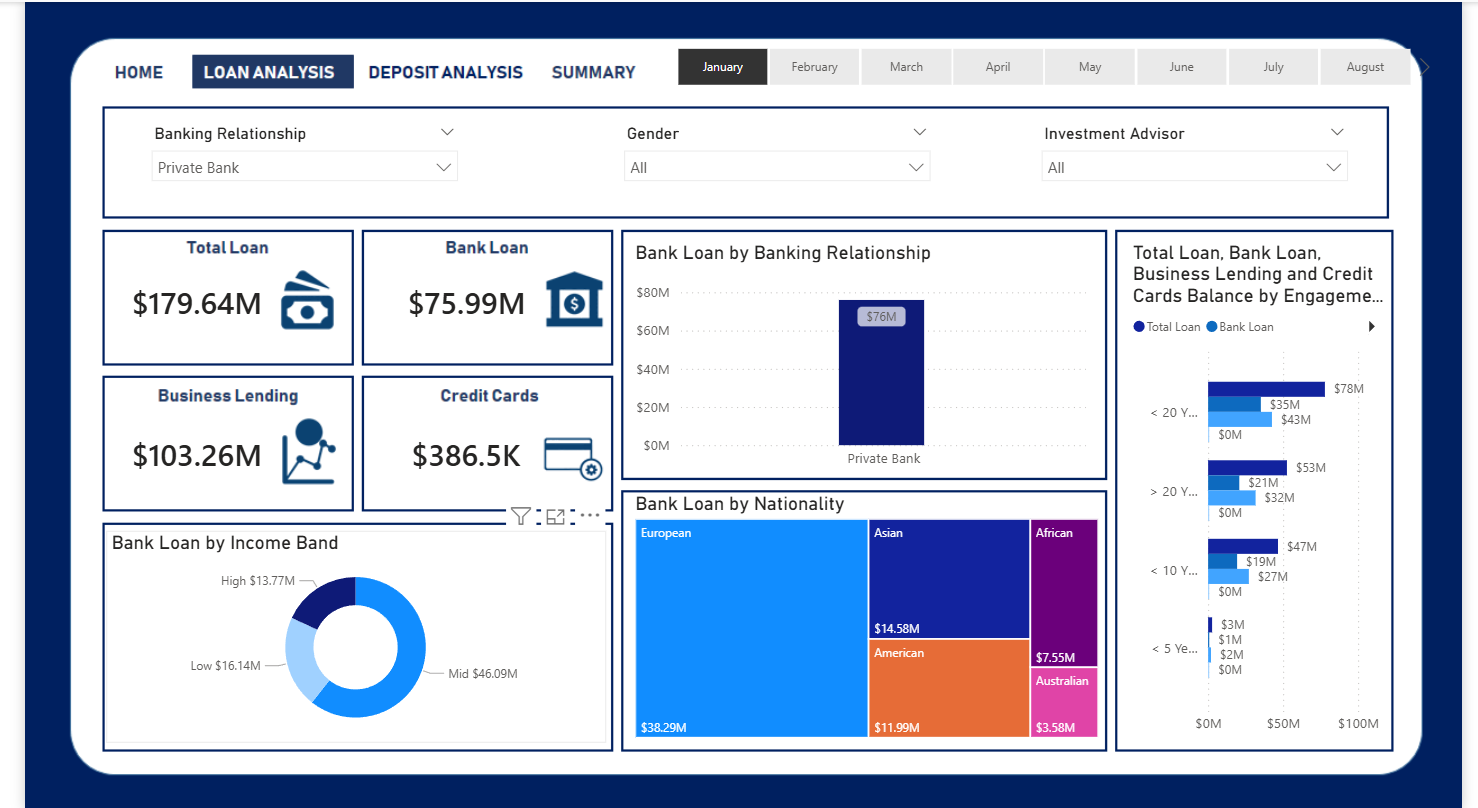

The dashboard page shown, as its layout file describes it:
{"tool":"powerbi","page":{"name":"Loan Analysis","canvas":[1280,720],"ordinal":1},"visuals":[{"type":"card","fields":{"Values":["DAX Measures.Total Loan"]},"box":[72.7,224,161.8,90.3],"z":0},{"type":"card","fields":{"Values":["DAX Measures.Bank Loan"]},"box":[307.2,224,172.4,89.1],"z":1000},{"type":"card","fields":{"Values":["DAX Measures.Credit Cards"]},"box":[307.2,360,171.2,89.1],"z":2000},{"type":"card","fields":{"Values":["DAX Measures.Business Lending"]},"box":[72.7,360,161.8,89.1],"z":3000},{"type":"slicer","fields":{"Values":["Banking Relationship.Banking Relationship"]},"box":[102.3,103.4,292.9,75.7],"z":4000},{"type":"slicer","fields":{"Values":["Gender.Gender"]},"box":[522.7,103.4,292.9,75.7],"z":5000},{"type":"slicer","fields":{"Values":["Investment Advisor.Investment Advisor"]},"box":[895,103.4,292.9,75.7],"z":6000},{"type":"donutChart","fields":{"Category":["Clients - Banking.Income Band"],"Y":["DAX Measures.Bank Loan"]},"box":[72.7,471.4,444.4,188.8],"z":7000},{"type":"clusteredBarChart","fields":{"Category":["Clients - Banking.Engagement Timeframe"],"Y":["DAX Measures.Total Loan","DAX Measures.Bank Loan","DAX Measures.Business Lending","DAX Measures.Credit Cards"]},"box":[981.5,212.2,236.9,447.9],"z":8000},{"type":"treemap","fields":{"Group":["Clients - Banking.Nationality"],"Values":["DAX Measures.Bank Loan"]},"box":[538.2,436.2,422.1,224],"z":9000},{"type":"lineClusteredColumnComboChart","fields":{"Y":["DAX Measures.Bank Loan"],"Category":["Banking Relationship.Banking Relationship"]},"box":[538.2,212.2,411.6,212.2],"z":10000},{"type":"slicer","fields":{"Values":["Clients - Banking.Joined Bank.Variation.Date Hierarchy.Month"]},"box":[555.2,34.6,702.1,46.6],"z":11000},{"type":"actionButton","box":[72.8,44.2,58.5,31],"z":12000},{"type":"actionButton","box":[306.4,44.6,148.4,31.4],"z":13000},{"type":"actionButton","box":[471.6,44.2,83.6,31],"z":14000}]}

Visuals, with their boxes in screenshot pixels (x1, y1, x2, y2), scaled from the page's 1280x720 canvas onto the 1478x808 screenshot:
card - DAX Measures.Total Loan: crop(84, 251, 271, 353)
card - DAX Measures.Bank Loan: crop(355, 251, 554, 351)
card - DAX Measures.Credit Cards: crop(355, 404, 552, 504)
card - DAX Measures.Business Lending: crop(84, 404, 271, 504)
slicer - Banking Relationship.Banking Relationship: crop(118, 116, 456, 201)
slicer - Gender.Gender: crop(604, 116, 942, 201)
slicer - Investment Advisor.Investment Advisor: crop(1033, 116, 1372, 201)
donutChart - Clients - Banking.Income Band x DAX Measures.Bank Loan: crop(84, 529, 597, 741)
clusteredBarChart - Clients - Banking.Engagement Timeframe x DAX Measures.Total Loan: crop(1133, 238, 1407, 741)
treemap - Clients - Banking.Nationality x DAX Measures.Bank Loan: crop(621, 490, 1109, 741)
lineClusteredColumnComboChart - DAX Measures.Bank Loan x Banking Relationship.Banking Relationship: crop(621, 238, 1097, 476)
slicer - Clients - Banking.Joined Bank.Variation.Date Hierarchy.Month: crop(641, 39, 1452, 91)
actionButton: crop(84, 50, 152, 84)
actionButton: crop(354, 50, 525, 85)
actionButton: crop(545, 50, 641, 84)
